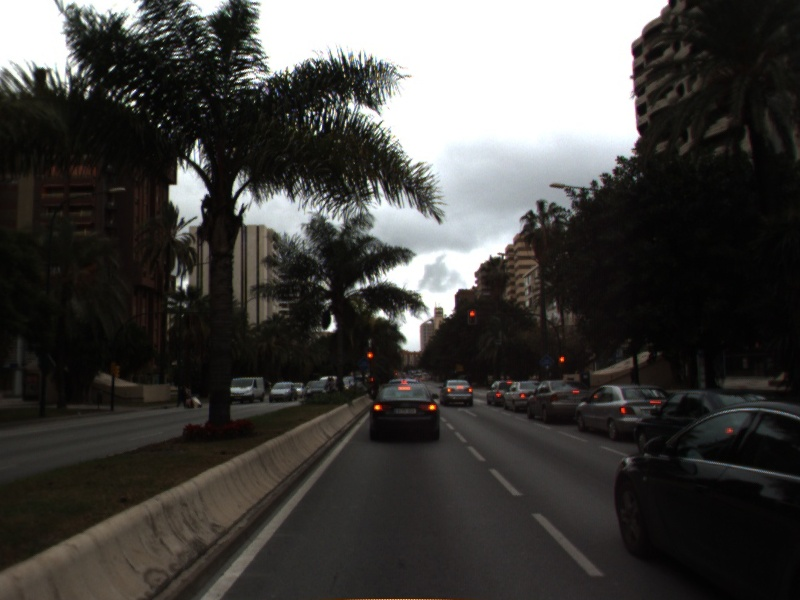STRAIGHT: (455, 404, 479, 419)
